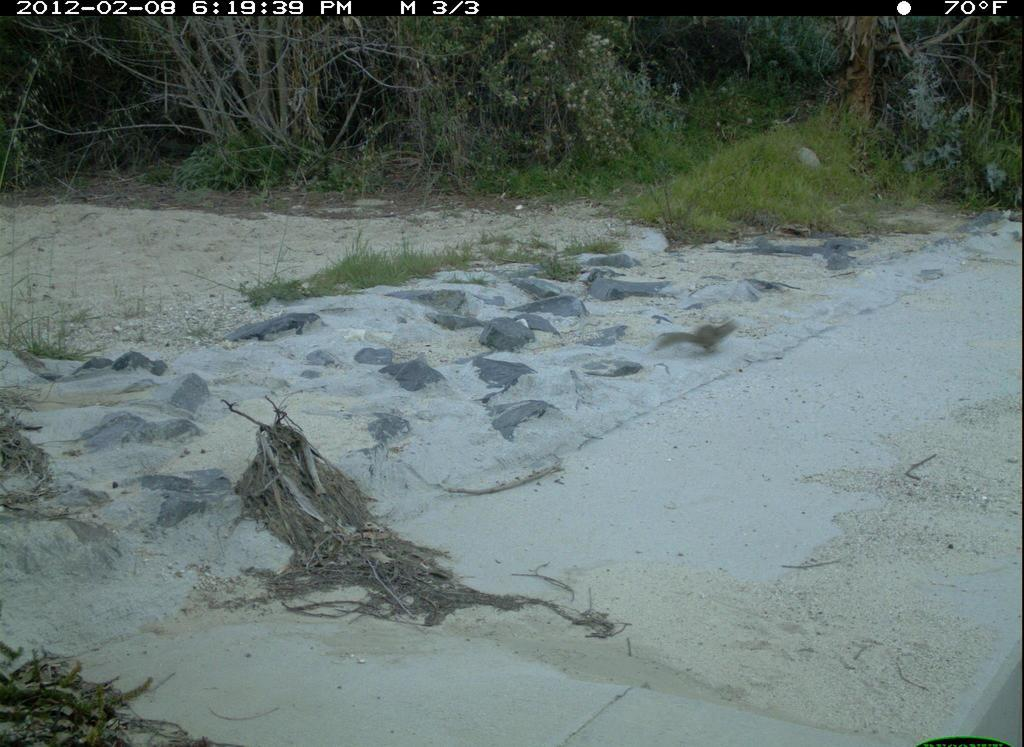squirrel: (648, 306, 749, 376)
